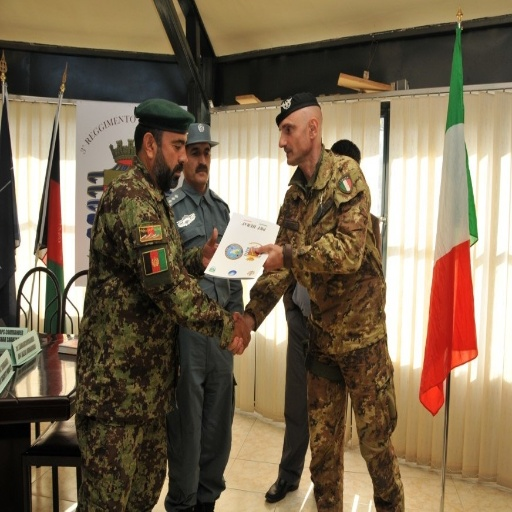hand: (251, 237, 297, 288), (228, 310, 251, 354), (199, 226, 217, 269), (231, 317, 251, 349)
